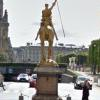Statue: (30, 3, 62, 68)
